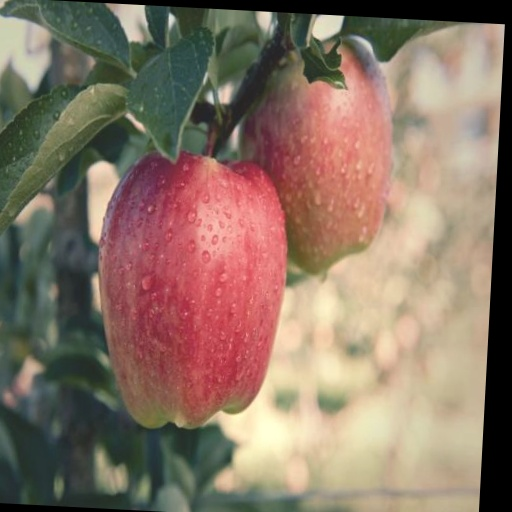fruit: (99, 152, 287, 427), (241, 44, 392, 273)
